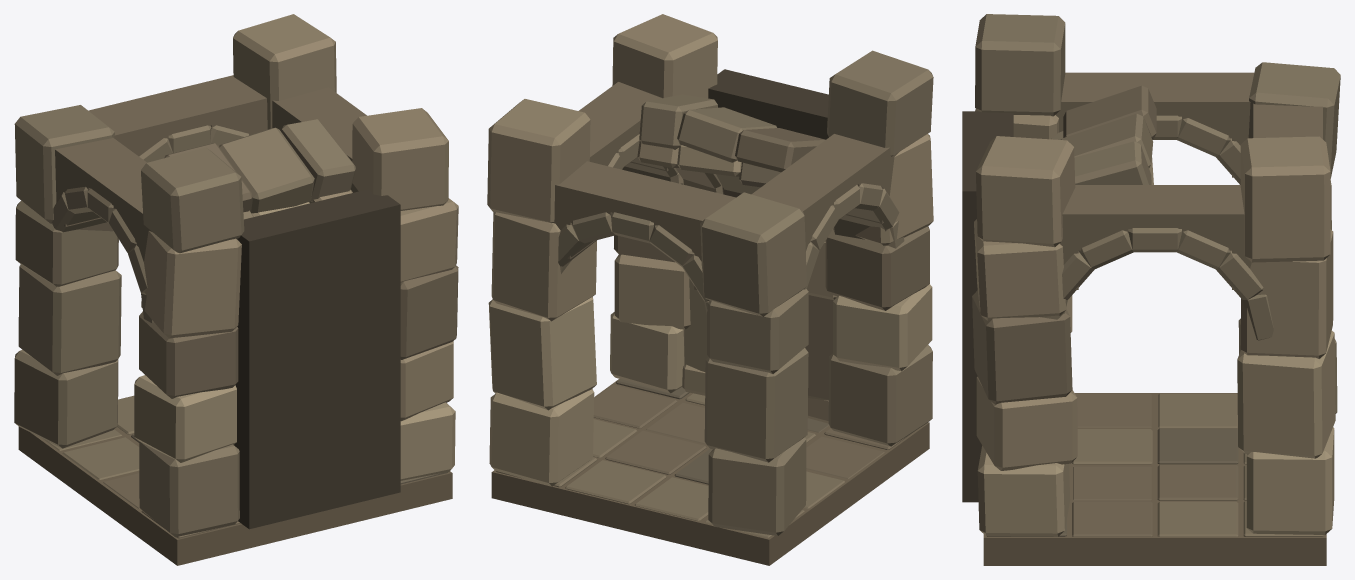
File: cripta-t.glb
The picture shows the model from 3 angles, left to right: view 1: azimuth 30°, elevation 25°; view 2: azimuth 150°, elevation 25°; view 3: azimuth 270°, elevation 25°; orthographic projection. The views are drawn at different scales.
Parts seen in each view (by area): view 1: cripta-t2; view 2: cripta-t2; view 3: cripta-t2.
Boxes of the visible parts, x1,y1,x2,y2 form: cripta-t2: [14, 14, 458, 565]; cripta-t2: [487, 14, 933, 565]; cripta-t2: [962, 14, 1340, 565].
Bounding box in the file's own units: 4.31 × 5.28 × 4.41.
